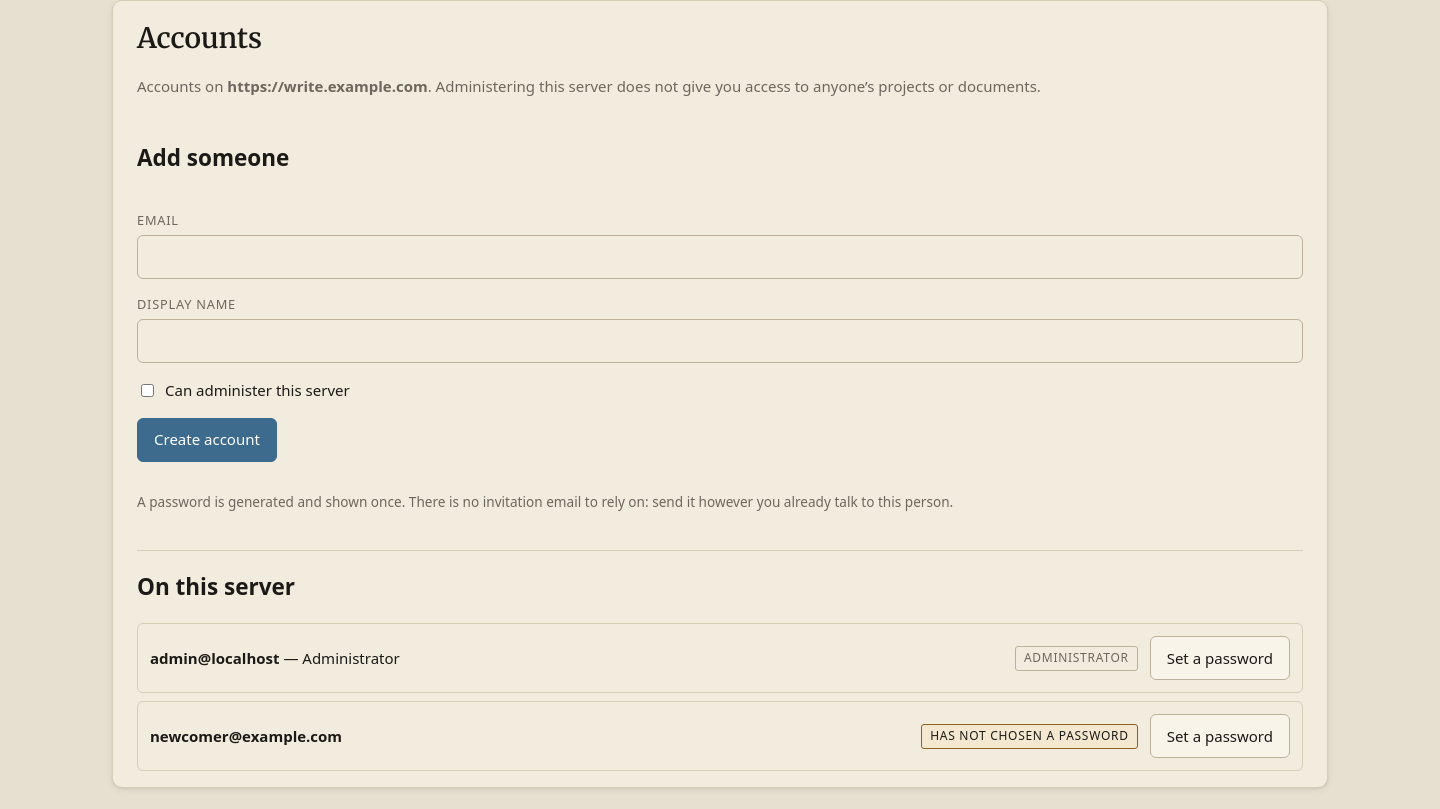
Test: setting a password for somebody locked out › reloads the list, because the account now has to choose its own
expect the text "newcomer@example.com" is shown: met, box [150,726,342,746]
What coordinates should you click on to do the following:
click the button "Set a password" in the row of "admin@localhost"
I would click on:
 (1220, 658)
Its box is [1150,636,1290,680].
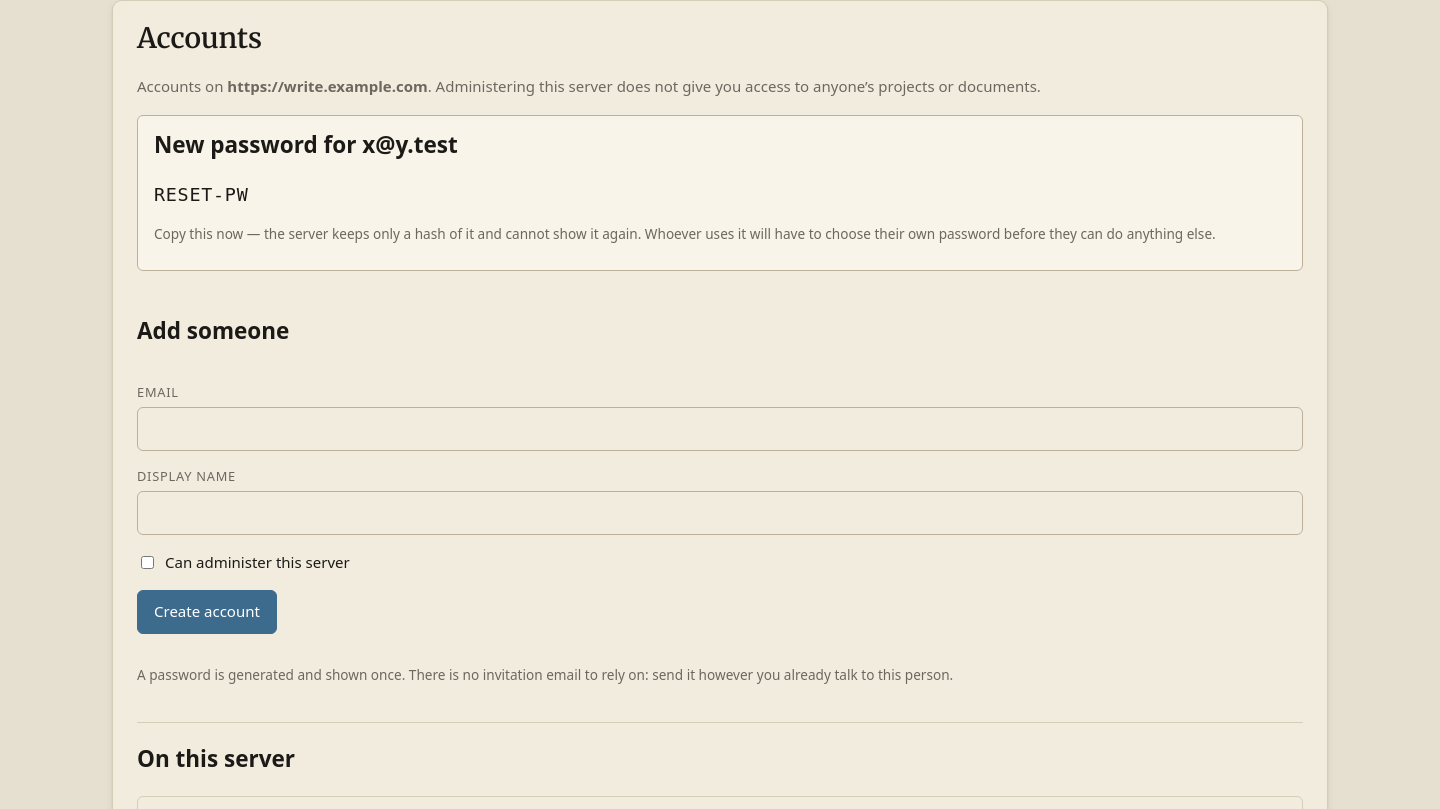
expect the text "RESET-PW" is shown: met, box [154,184,248,205]
